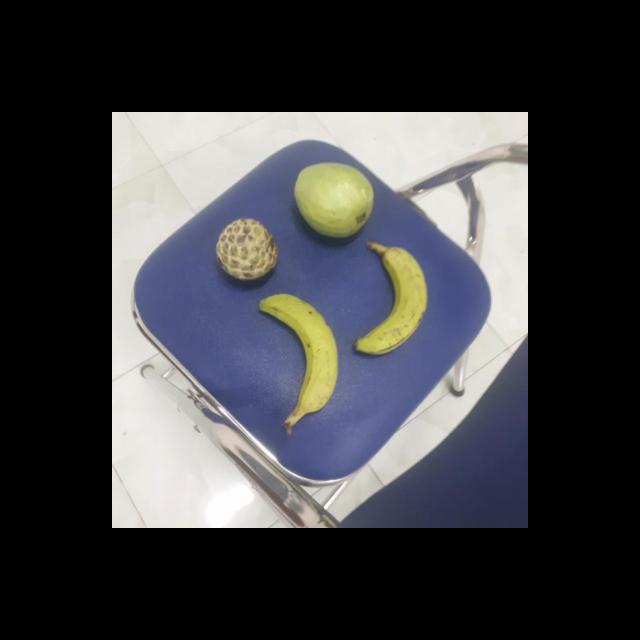Sakya fruit: (213, 218, 277, 281)
banana: (256, 293, 339, 417), (348, 242, 428, 352)
guava: (292, 160, 376, 240)
